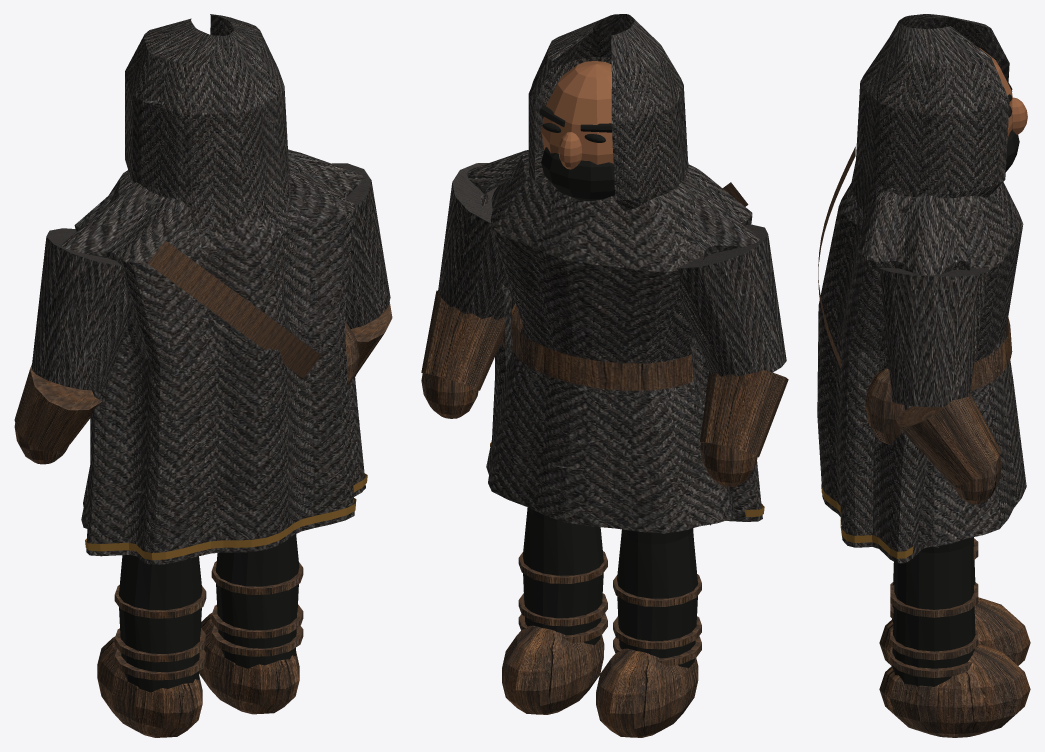
Rendered from traveller.obj.
3 renders of one model, left to right at view 1: azimuth 30°, elevation 25°; view 2: azimuth 150°, elevation 25°; view 3: azimuth 270°, elevation 25°, orthographic. The views are drawn at different scales.
Size of the model in its own units: 1.02 by 1.94 by 0.5444.
5 materials, 2 textured.
